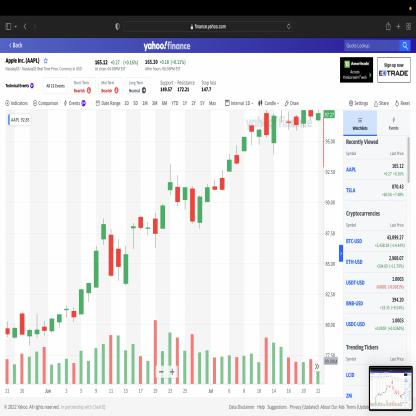Bullish: 3 White Soldiers: (78, 244, 100, 318)
Bullish: Tweezer Bottom: (189, 183, 203, 233)
